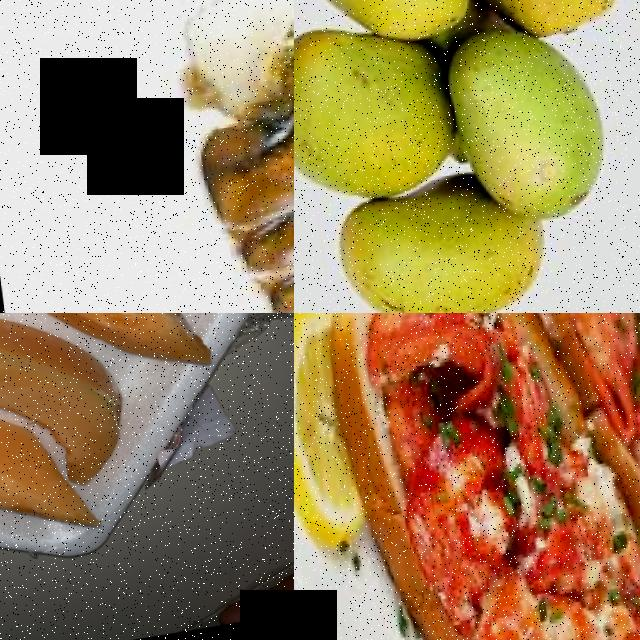lobster tails: (155, 0, 294, 313)
mango: (441, 38, 610, 239), (294, 27, 453, 215), (325, 184, 497, 313), (294, 0, 467, 58)
melon: (0, 378, 129, 640)
